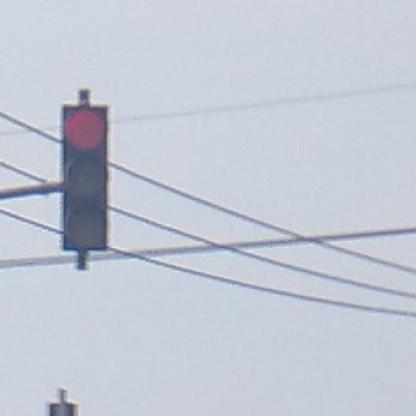red: (59, 103, 109, 252)
